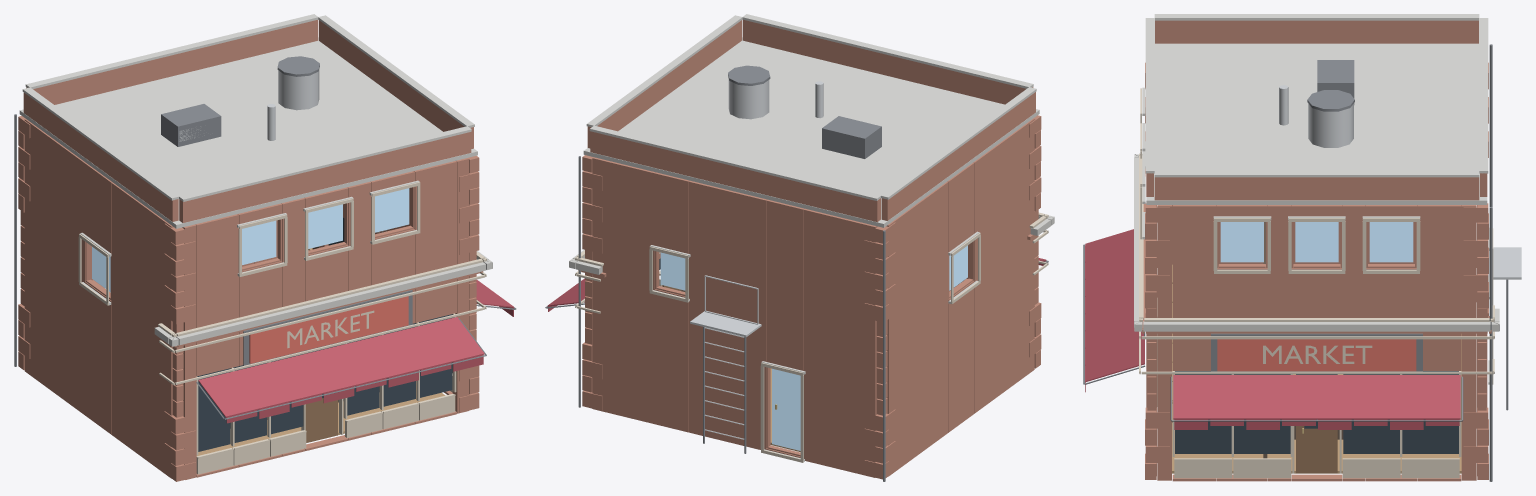
Rendered from Store_Corner.fbx.
3 renders of one model, left to right at view 1: azimuth 30°, elevation 25°; view 2: azimuth 150°, elevation 25°; view 3: azimuth 270°, elevation 25°, orthographic. The views are drawn at different scales.
Visible parts, largest first — view 1: LOD0; view 2: LOD0; view 3: LOD0.
Part boxes in pixels (left/top/right/bottom): LOD0: left=14, top=14, right=516, bottom=481; LOD0: left=545, top=14, right=1054, bottom=481; LOD0: left=1083, top=14, right=1521, bottom=481.
Size of what is drawn, in the model's own units: 959 by 772 by 925.
